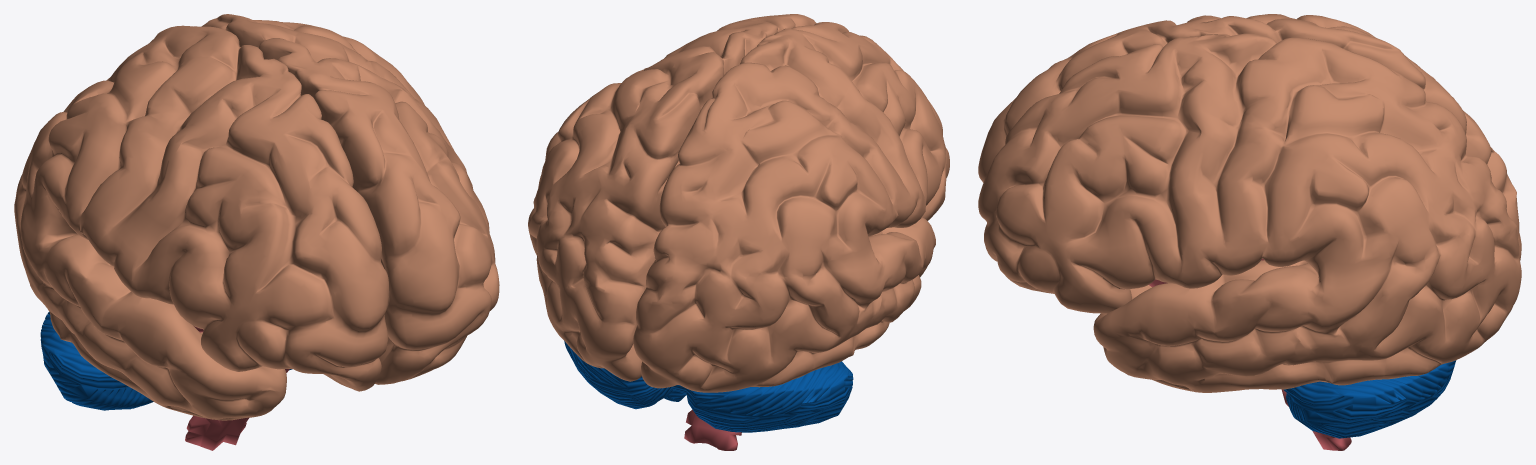
File: THREE-PARTS-BRAIN.glb
3 views of the same model, side by side, from view 1: azimuth 30°, elevation 25°; view 2: azimuth 150°, elevation 25°; view 3: azimuth 270°, elevation 25° (orthographic). The views are drawn at different scales.
Parts seen in each view (by area): view 1: Brain_Part_06, Brain_Part_04, Brain_Part_02, Brain_Part_05; view 2: Brain_Part_06, Brain_Part_04, Brain_Part_02, Brain_Part_05; view 3: Brain_Part_04, Brain_Part_06, Brain_Part_02, Brain_Part_05.
Part boxes in pixels (x1=…): Brain_Part_06: x1=14, y1=25, x2=388, y2=420; Brain_Part_04: x1=201, y1=14, x2=499, y2=384; Brain_Part_02: x1=40, y1=312, x2=292, y2=410; Brain_Part_05: x1=185, y1=326, x2=289, y2=450; Brain_Part_06: x1=633, y1=22, x2=949, y2=392; Brain_Part_04: x1=528, y1=14, x2=816, y2=381; Brain_Part_02: x1=564, y1=341, x2=853, y2=432; Brain_Part_05: x1=684, y1=409, x2=741, y2=450; Brain_Part_04: x1=978, y1=33, x2=1521, y2=392; Brain_Part_06: x1=978, y1=14, x2=1521, y2=260; Brain_Part_02: x1=1283, y1=360, x2=1456, y2=438; Brain_Part_05: x1=1149, y1=259, x2=1351, y2=450.
Size of the model in its own units: 3.8 by 4.02 by 4.73.
